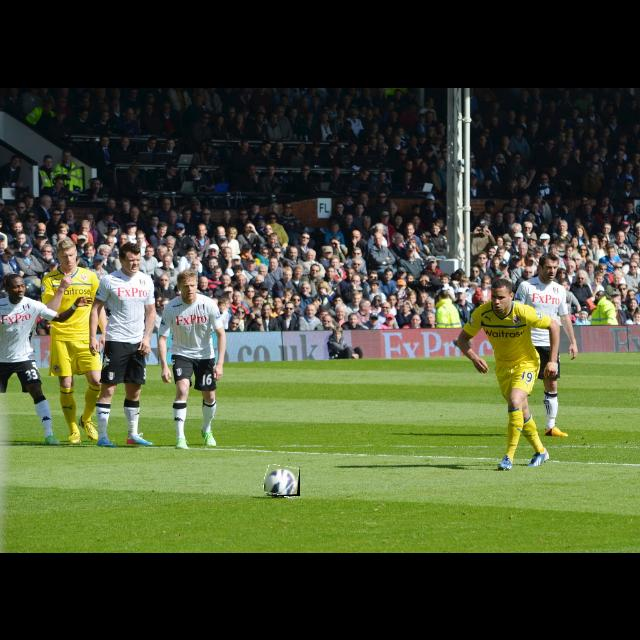Football: (264, 466, 300, 496)
